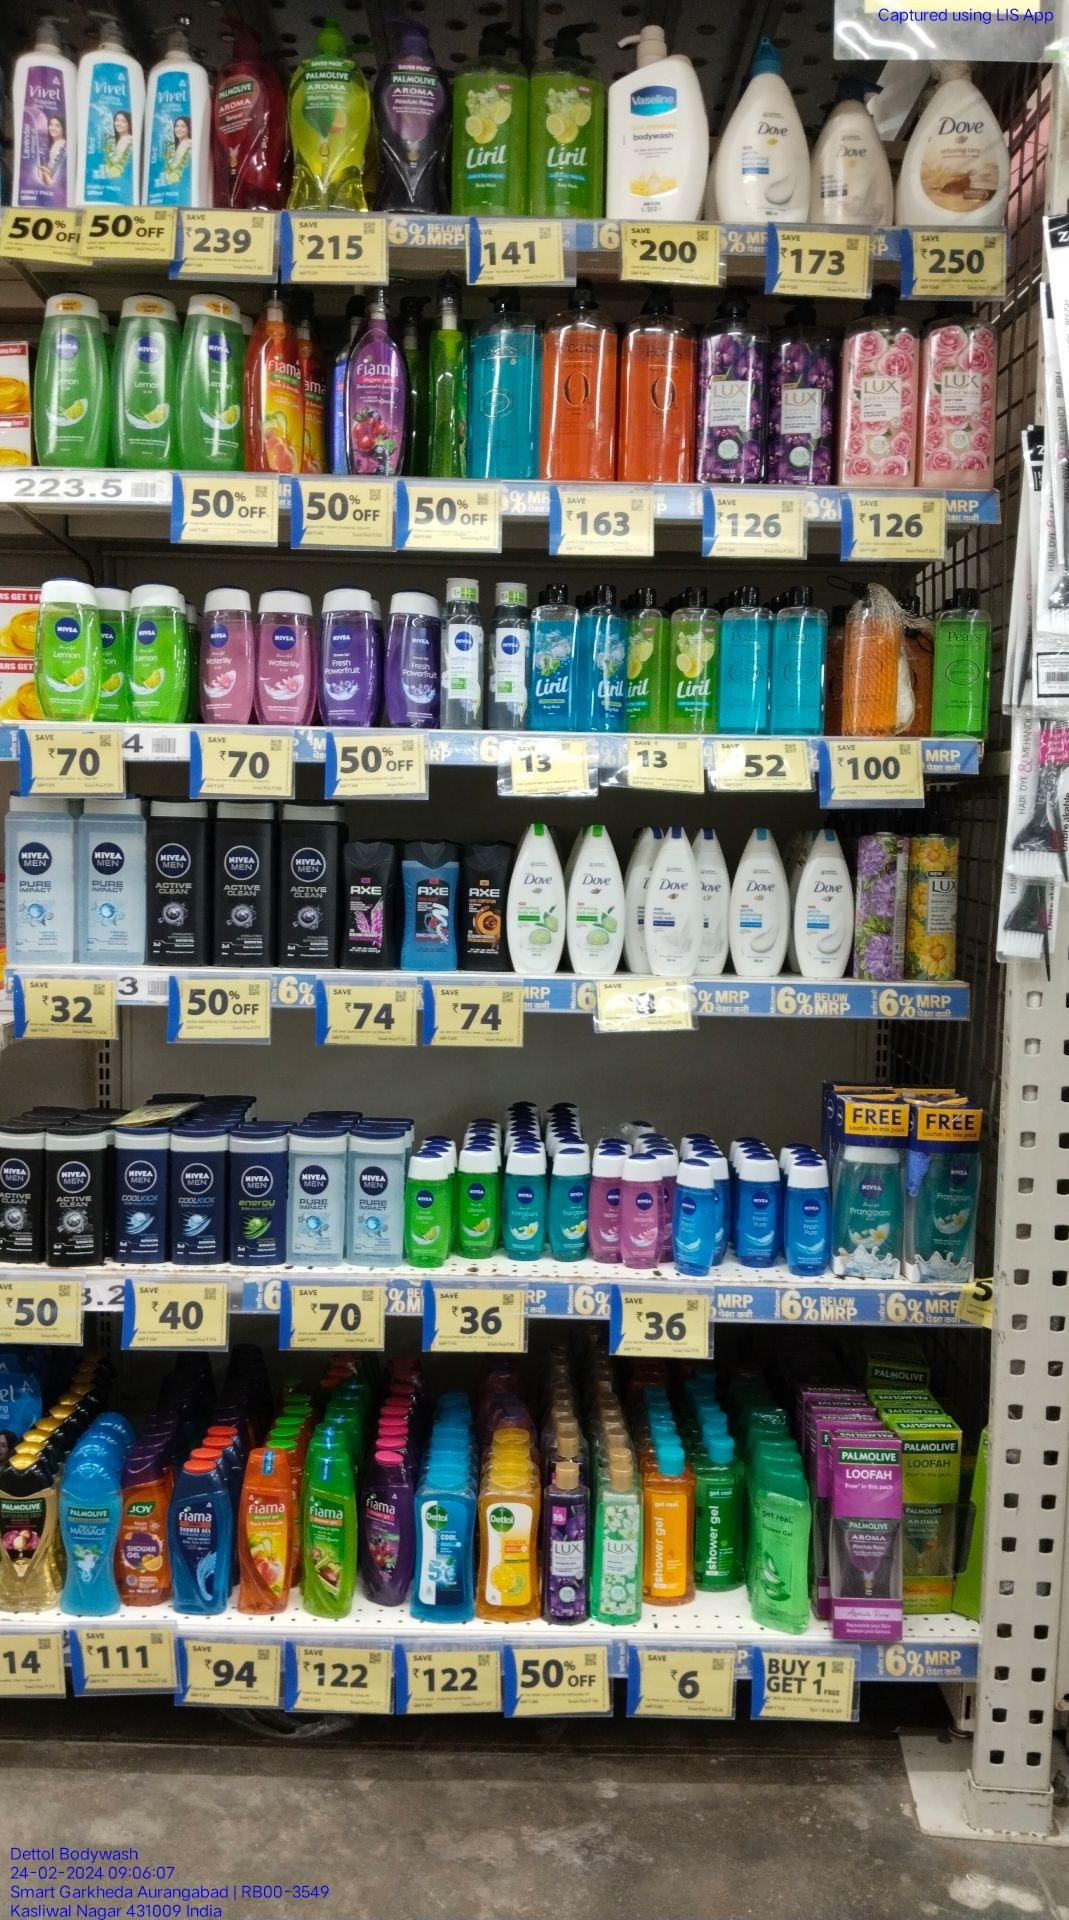Dettol_Bodywash_Cool: (413, 1477, 477, 1625)
Dettol_Bodywash_Refresh: (479, 1467, 541, 1624)
Dove_Deep_Moisture_Body_Wash_250ML: (645, 829, 702, 978)
Dove_Gentle_Exfoliating_Body_Wash_250ML: (793, 829, 853, 975), (733, 828, 789, 974)
Dove_Refreshing_Body_Wash_250ML: (507, 825, 567, 978), (569, 824, 625, 974)
Fiama_Shower_Gel_Lemongrass_and_Jojoba_250ML: (303, 1458, 355, 1617)
Fiama_Shower_Gel_Peach_and_Avocado_250ML: (238, 1453, 292, 1616)
Joy_Shower_Gel_Mandarin_and_Lemongrass_250ML: (120, 1461, 171, 1607)
Liril_Cooling_Mint_Body_Wash_250ML: (533, 586, 575, 733), (583, 586, 625, 732)
Liril_Lime_and_Tea_Tree_Oil_Body_Wash_250ML: (666, 590, 716, 734)
Lux_Black_Orchid_Scent_and_Juniper_Oil_Body_Wash_245ML: (542, 1469, 591, 1625)
Lux_Body_Wash_Skin_Detox_Freesia_Scent_and_Alove_Vera_245ML: (596, 1463, 642, 1627)
Nivea_Shower_Gel_Frangipani_and_Oil_250ML: (503, 1150, 549, 1262), (550, 1151, 587, 1259)
Nivea_Shower_Gel_Fresh_Powerfruit_250ML: (320, 591, 379, 725), (386, 596, 442, 734)
Nivea_Shower_Gel_Lemon_and_Oil_250ML: (36, 291, 115, 471), (178, 291, 242, 466), (116, 297, 175, 468), (36, 586, 100, 721), (125, 586, 187, 724), (405, 1157, 452, 1274), (456, 1154, 499, 1255)
Nivea_Shower_Gel_Waterlily_and_Oil_250ML: (257, 591, 316, 729), (200, 591, 254, 728), (623, 1157, 662, 1270)
Palmolive_Aroma_Moments_Feel_The_Massage_Shower_Gel_250ML: (61, 1467, 122, 1617)
Palmolive_Luminous_Oils_Invigorating_Macadamia_Oil_With_Peony_250ML: (1, 1459, 61, 1613)
Pears_Pure_Glycerin_and_Lemon_Flower_Extracts_Body_Wash_250ML: (932, 588, 991, 737)
Pears_Pure_Glycerin_and_Mint_Extracts_Body_Wash_250ML: (719, 590, 774, 734), (773, 586, 824, 737)
